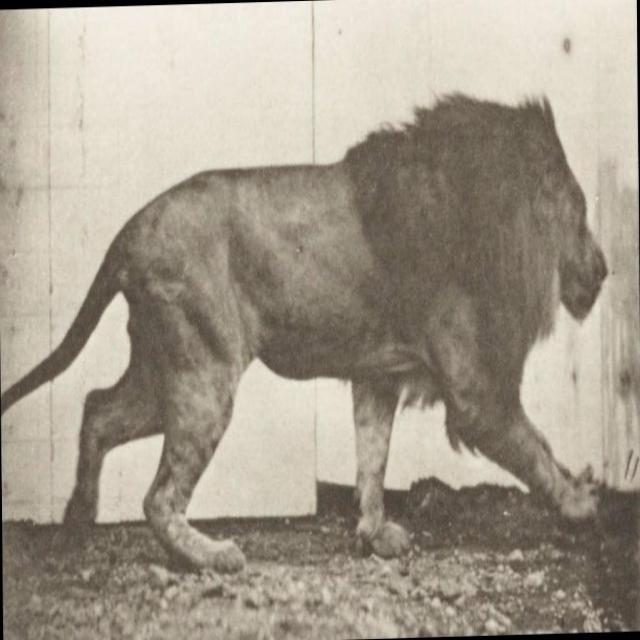Lion: (0, 86, 613, 573)
